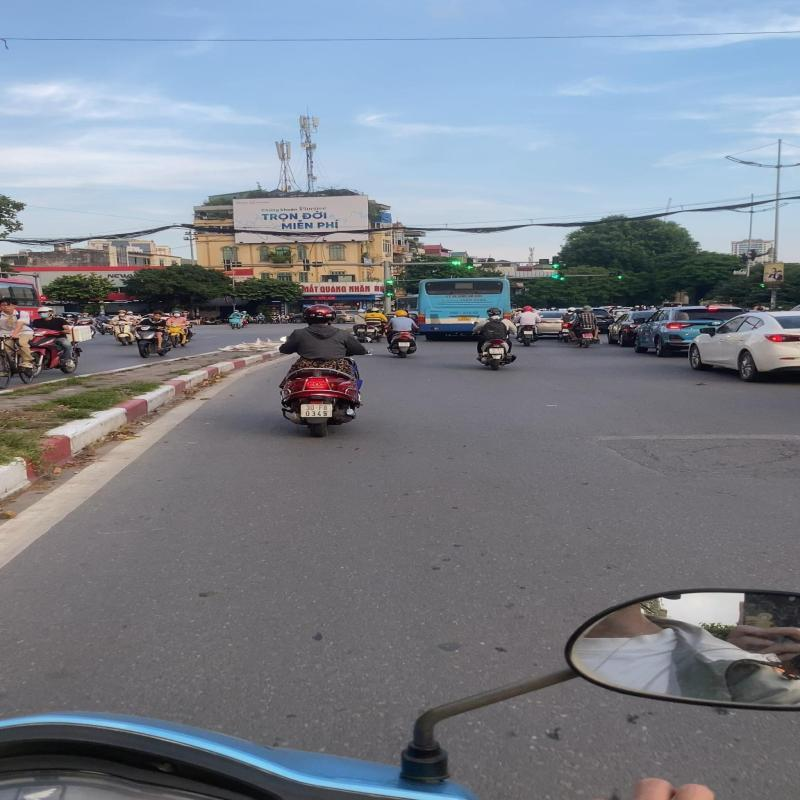helmet: (304, 305, 336, 322), (486, 307, 502, 316)
licenseplate: (300, 404, 334, 419), (489, 347, 505, 354)
motorcyclist: (272, 302, 376, 438), (472, 306, 520, 372)
